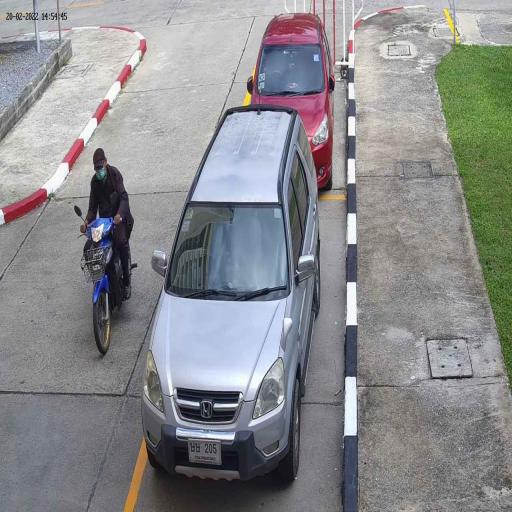car: (140, 102, 322, 485), (248, 11, 337, 187)
motorcycle: (82, 215, 120, 357)
